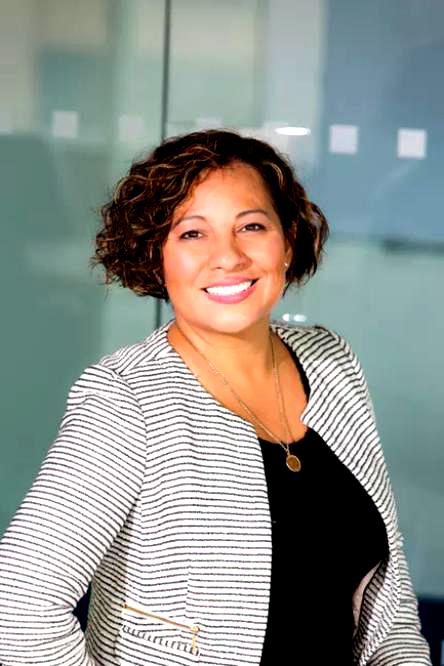face: (162, 167, 286, 336)
